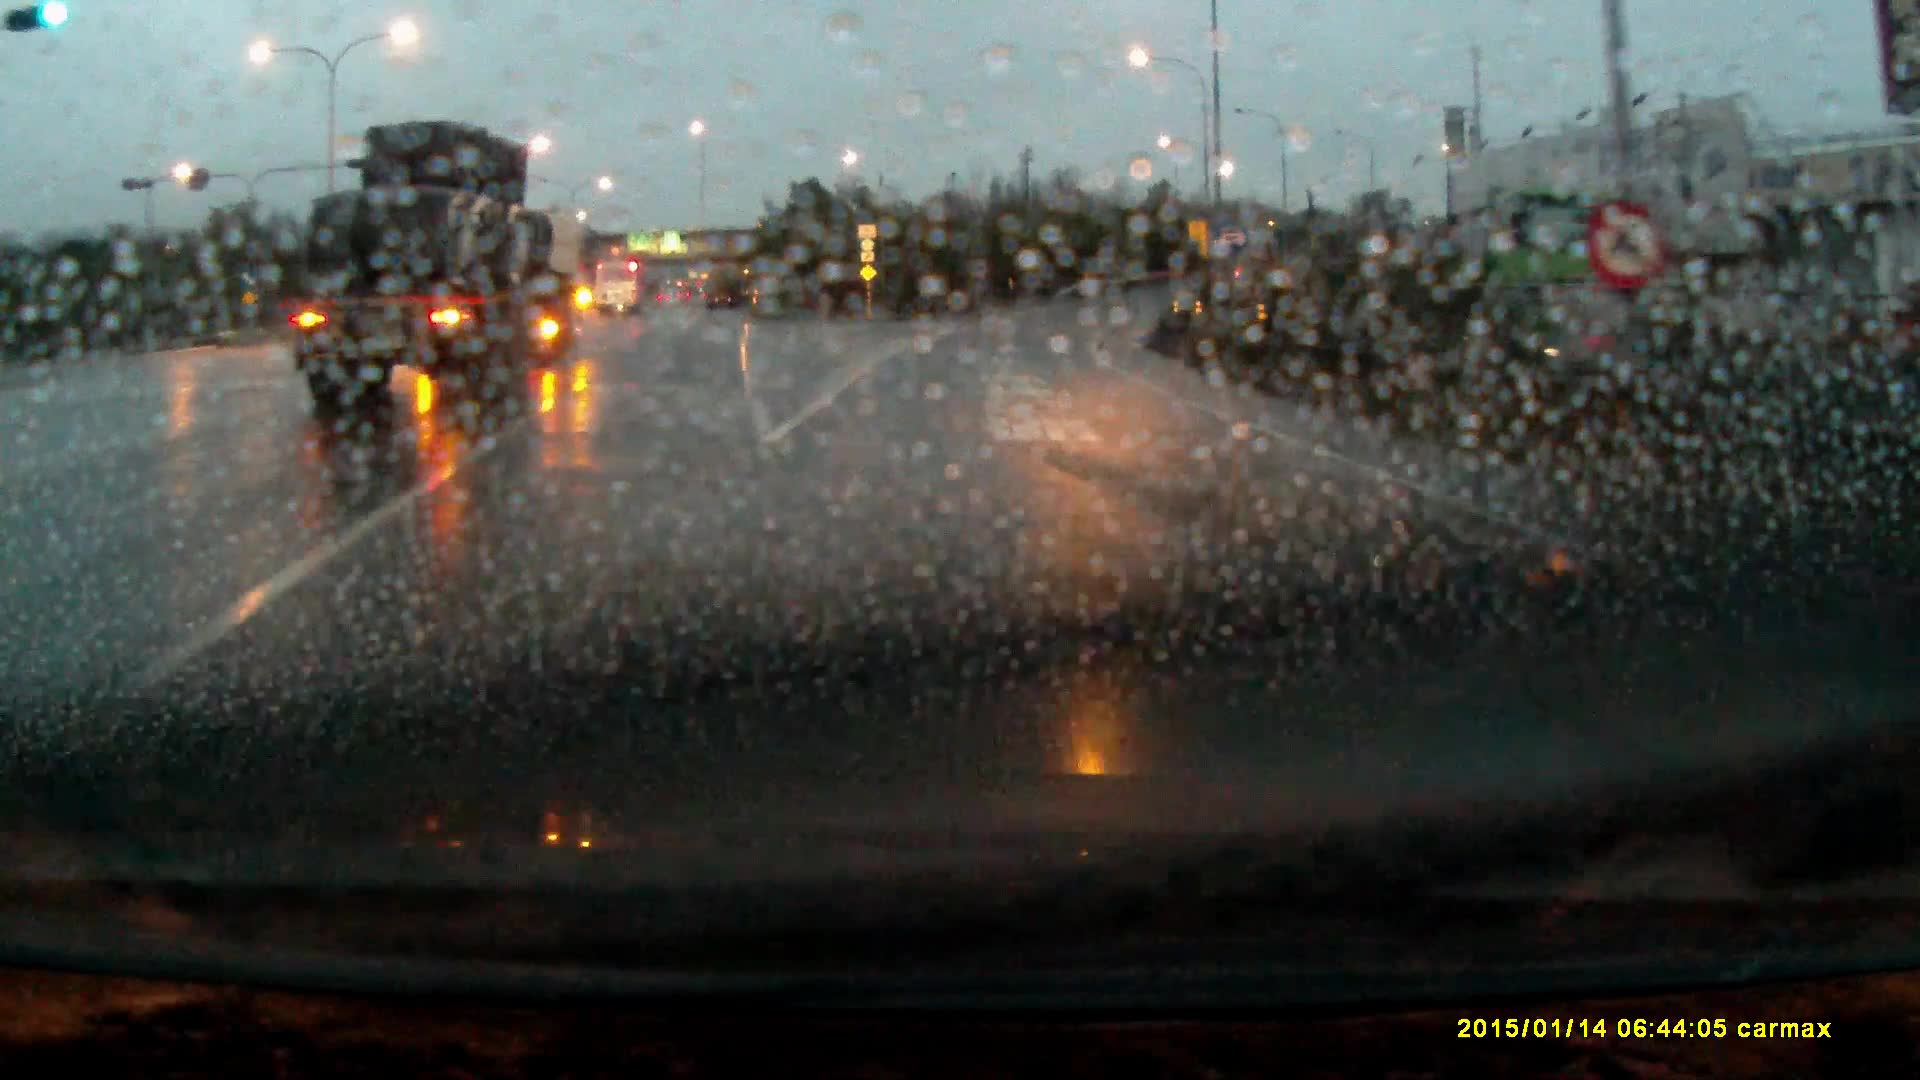vehicle: (287, 127, 593, 418), (596, 264, 651, 320)
